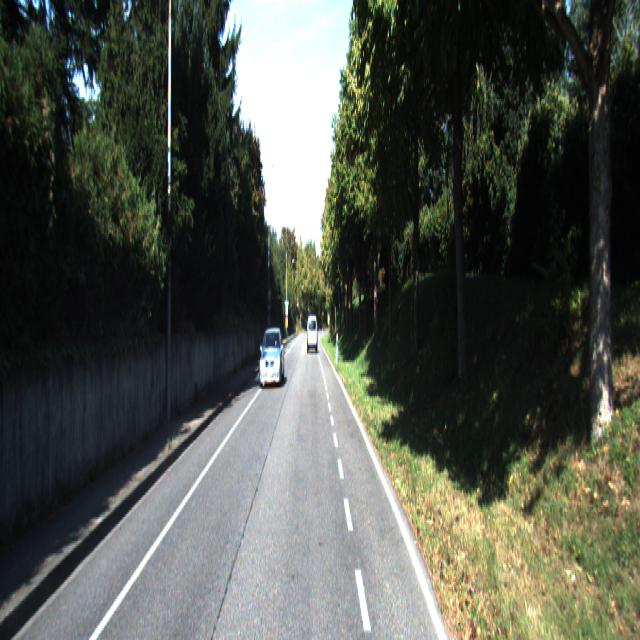Car: (258, 324, 286, 389), (306, 315, 318, 354)
